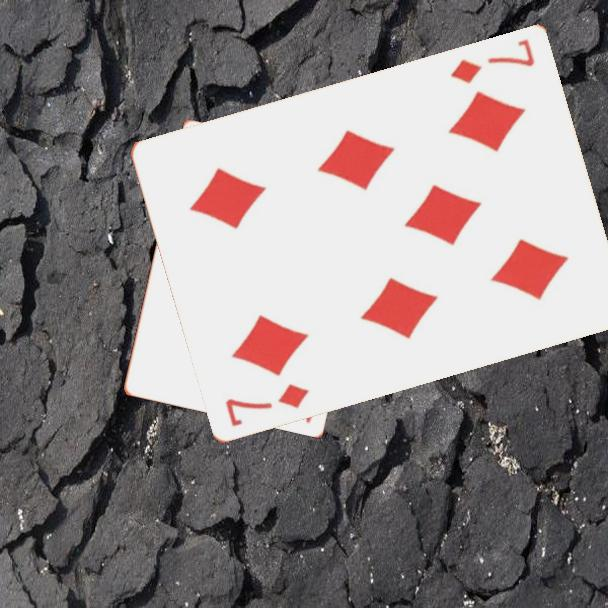d07: (448, 34, 538, 86), (222, 379, 312, 429)
